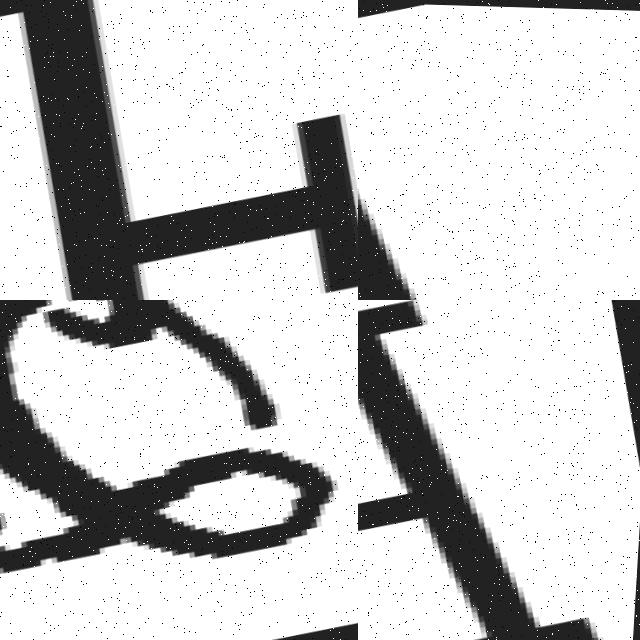F: (0, 0, 358, 300)
H: (358, 300, 603, 640)
J: (358, 19, 640, 300)
Q: (0, 300, 358, 640)
